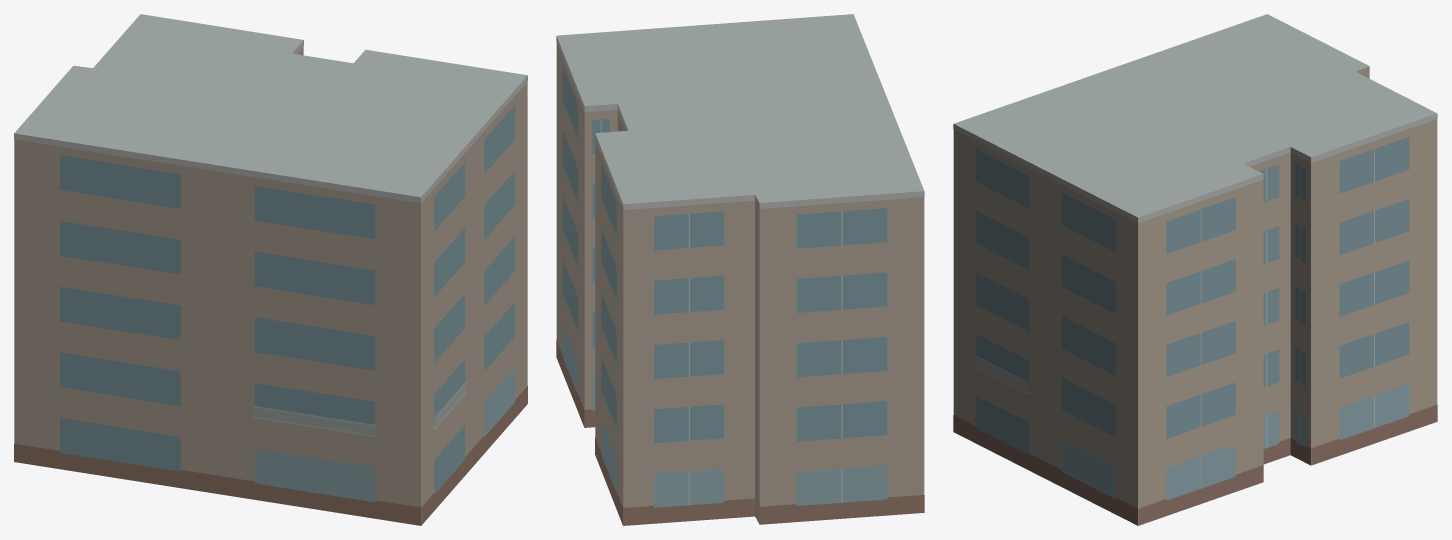
The model's file is survey-upis-33025052.glb.
The picture shows the model from 3 angles, left to right: view 1: azimuth 30°, elevation 25°; view 2: azimuth 150°, elevation 25°; view 3: azimuth 270°, elevation 25°; orthographic projection. The views are drawn at different scales.
Parts seen in each view (by area): view 1: survey-upis-33025052.tmp; view 2: survey-upis-33025052.tmp; view 3: survey-upis-33025052.tmp.
Part boxes in pixels (x1,y1,x2,y2): survey-upis-33025052.tmp: (14,14,527,525); survey-upis-33025052.tmp: (556,14,924,525); survey-upis-33025052.tmp: (953,14,1437,525).
Size of the model in its own units: 18.85 by 13.3 by 18.93.
